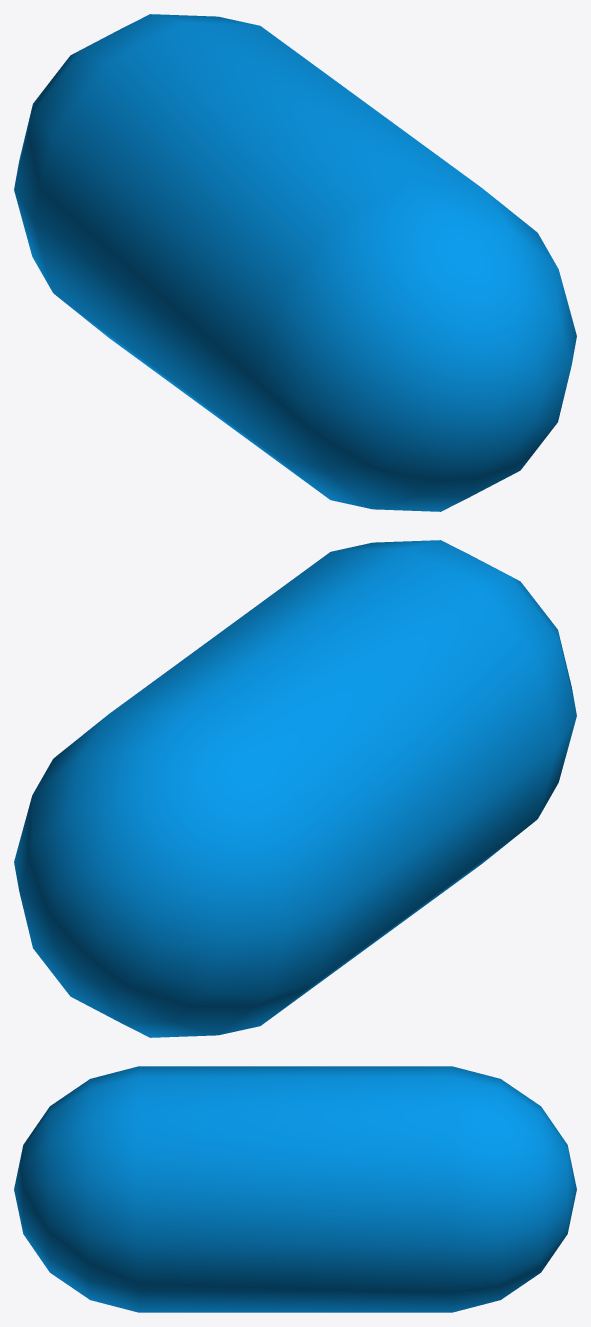
File: sc_bullet_hero.FBX
3 views of the same model, one above another, from view 1: azimuth 30°, elevation 25°; view 2: azimuth 150°, elevation 25°; view 3: azimuth 270°, elevation 25° (orthographic). The views are drawn at different scales.
Visible parts, largest first — view 1: sc_bullet_hero; view 2: sc_bullet_hero; view 3: sc_bullet_hero.
Boxes of the visible parts, x1,y1,x2,y2 form: sc_bullet_hero: (14, 14, 576, 511); sc_bullet_hero: (14, 540, 576, 1037); sc_bullet_hero: (14, 1066, 576, 1312).
Size of the model in its own units: 0.4556 by 0.4556 by 1.04.
